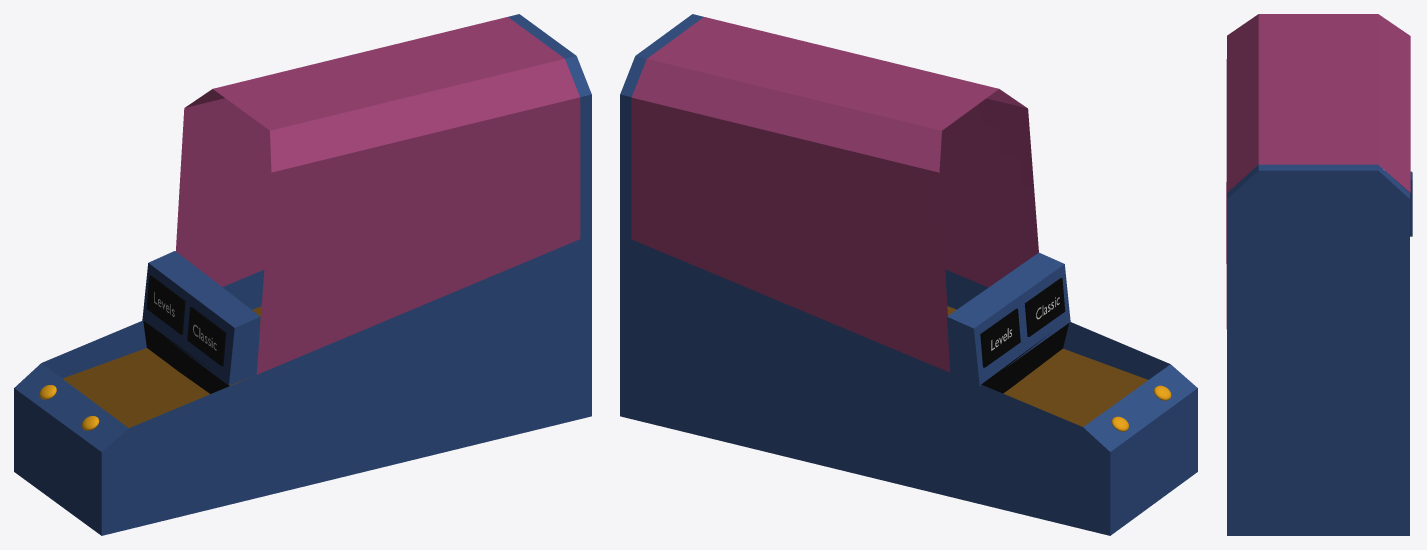
Rendered from Arcade_machine.glb.
The picture shows the model from 3 angles, left to right: view 1: azimuth 30°, elevation 25°; view 2: azimuth 150°, elevation 25°; view 3: azimuth 270°, elevation 25°; orthographic projection. The views are drawn at different scales.
Visible parts, largest first — view 1: Cage, Arcade, Ramp, Backboard, Separate, Timer, Score; view 2: Cage, Arcade, Ramp, Backboard, Separate, Score, Timer; view 3: Arcade, Backboard, Cage.
Part boxes in pixels (left/top/right/bottom): Cage: left=176, top=17, right=580, bottom=374; Arcade: left=14, top=236, right=591, bottom=535; Ramp: left=62, top=306, right=261, bottom=427; Backboard: left=508, top=14, right=591, bottom=238; Separate: left=143, top=320, right=229, bottom=393; Timer: left=187, top=307, right=226, bottom=366; Score: left=146, top=275, right=185, bottom=334; Cage: left=631, top=17, right=1038, bottom=372; Arcade: left=620, top=236, right=1197, bottom=535; Ramp: left=947, top=306, right=1147, bottom=426; Backboard: left=620, top=14, right=703, bottom=237; Separate: left=981, top=323, right=1068, bottom=393; Score: left=980, top=308, right=1020, bottom=367; Timer: left=1024, top=278, right=1065, bottom=336; Arcade: left=1227, top=171, right=1412, bottom=535; Backboard: left=1227, top=164, right=1409, bottom=347; Cage: left=1226, top=14, right=1410, bottom=328.
Size of the model in its own units: 6.46 by 4.4 by 2.03.
Materials: 11 (2 with a texture image).
